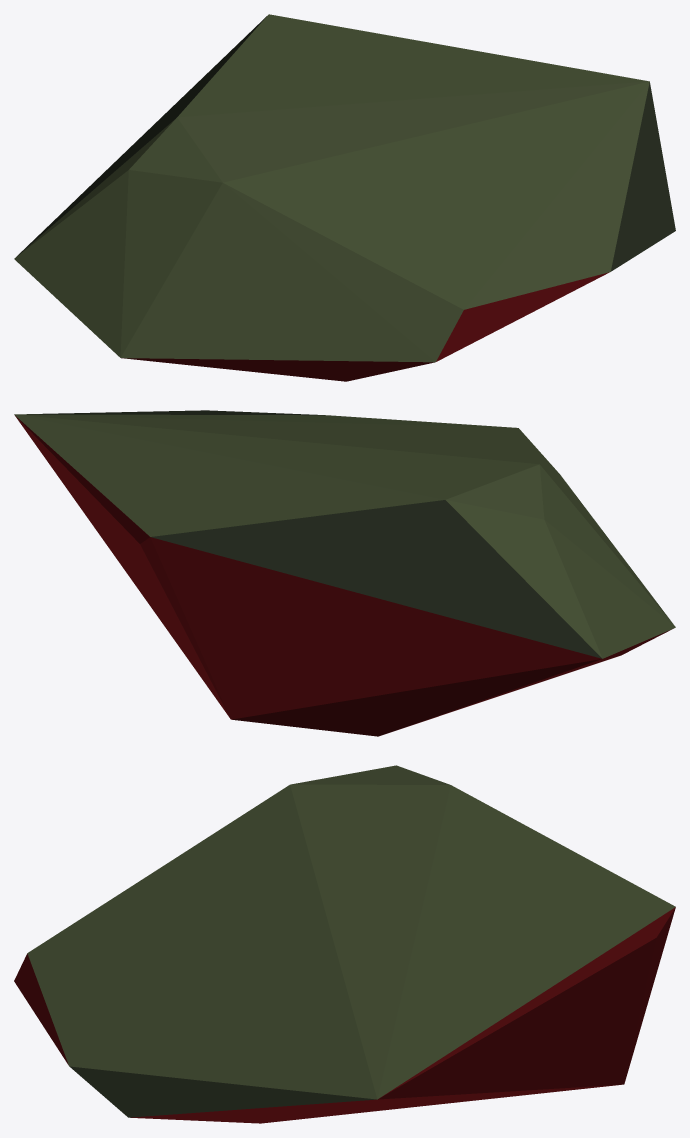
The model's file is gib_12.glb.
3 views of the same model, one above another, from view 1: azimuth 30°, elevation 25°; view 2: azimuth 150°, elevation 25°; view 3: azimuth 270°, elevation 25° (orthographic). The views are drawn at different scales.
Visible parts, largest first — view 1: gib_12; view 2: gib_12; view 3: gib_12.
Part boxes in pixels (x1=…): gib_12: x1=14, y1=14, x2=675, y2=381; gib_12: x1=14, y1=410, x2=675, y2=736; gib_12: x1=14, y1=765, x2=675, y2=1123.
Size of the model in its own units: 0.1424 by 0.0474 by 0.1148.
